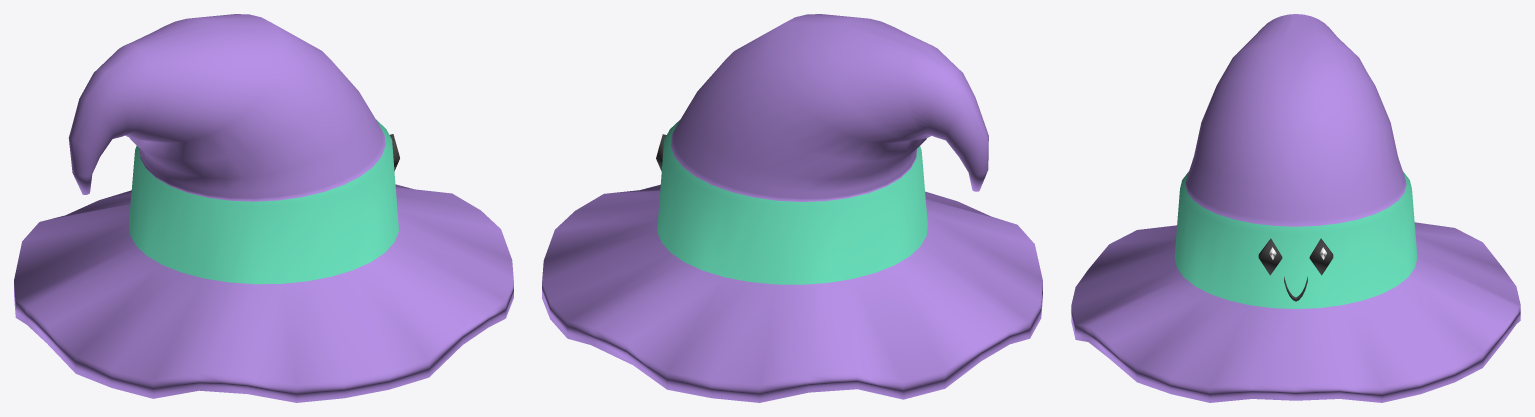
The picture shows the model from 3 angles, left to right: view 1: azimuth 30°, elevation 25°; view 2: azimuth 150°, elevation 25°; view 3: azimuth 270°, elevation 25°; orthographic projection. The views are drawn at different scales.
Parts seen in each view (by area): view 1: Cylinder; view 2: Cylinder; view 3: Cylinder.
Part boxes in pixels (x1,y1,x2,y2): Cylinder: (14,14,513,402); Cylinder: (542,14,1042,402); Cylinder: (1071,14,1520,402).
Size of the model in its own units: 5.38 by 3.46 by 5.38.
1 material, 1 textured.
